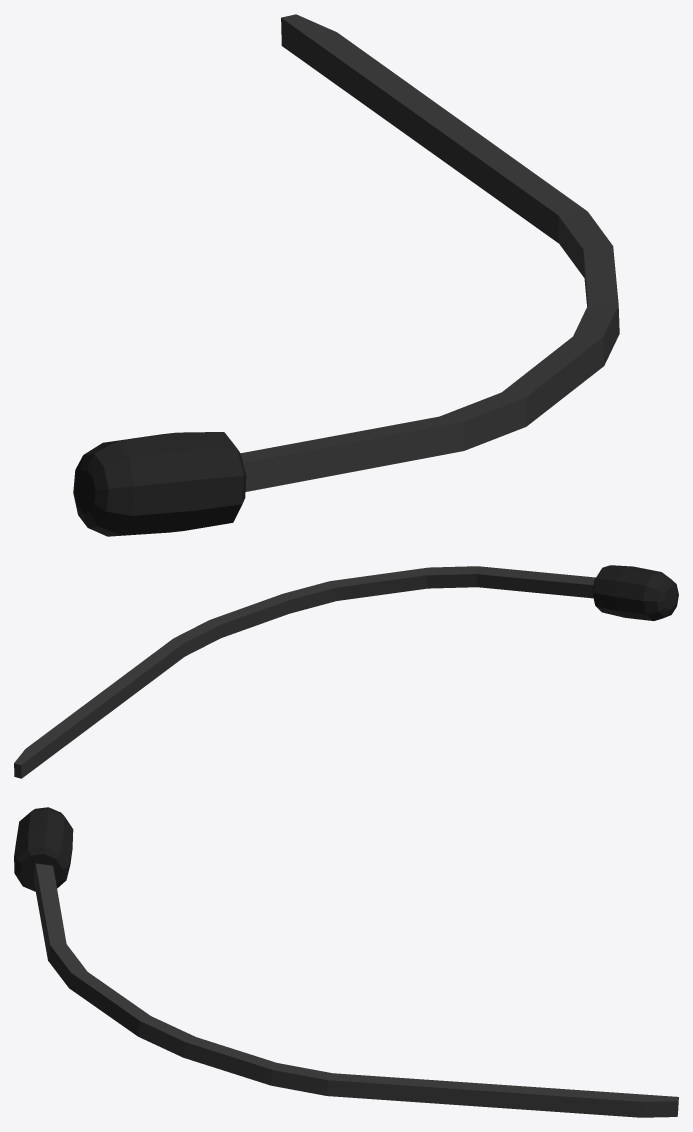
The model's file is Headset_Mic_2.obj.
The picture shows the model from 3 angles, top to bottom: view 1: azimuth 30°, elevation 25°; view 2: azimuth 150°, elevation 25°; view 3: azimuth 270°, elevation 25°; orthographic projection. The views are drawn at different scales.
Parts seen in each view (by area): view 1: Headset_Mic_2; view 2: Headset_Mic_2; view 3: Headset_Mic_2.
Boxes of the visible parts, left/top/right/bottom form: Headset_Mic_2: left=73, top=14, right=619, bottom=536; Headset_Mic_2: left=14, top=565, right=678, bottom=778; Headset_Mic_2: left=14, top=807, right=678, bottom=1117.
Bounding box in the file's own units: 0.1548 × 0.0345 × 0.2006.
